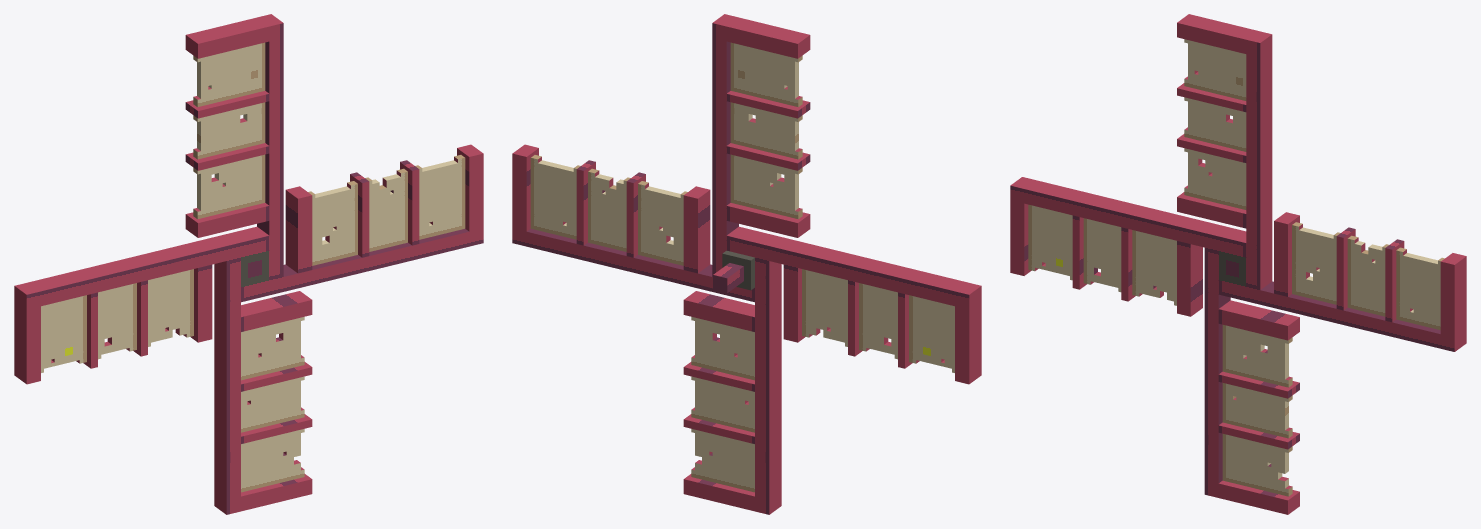
File: big_windmillao.fezao.glb
3 renders of one model, left to right at view 1: azimuth 30°, elevation 25°; view 2: azimuth 150°, elevation 25°; view 3: azimuth 330°, elevation 25°, orthographic. The views are drawn at different scales.
Visible parts, largest first — view 1: BIG_WINDMILLAO; view 2: BIG_WINDMILLAO; view 3: BIG_WINDMILLAO.
Boxes of the visible parts, bbox=[...] form: BIG_WINDMILLAO: bbox=[14, 14, 483, 514]; BIG_WINDMILLAO: bbox=[512, 14, 981, 514]; BIG_WINDMILLAO: bbox=[1010, 14, 1466, 514].
Bounding box in the file's own units: 8 × 8 × 1.
Materials: 1 (1 with a texture image).
